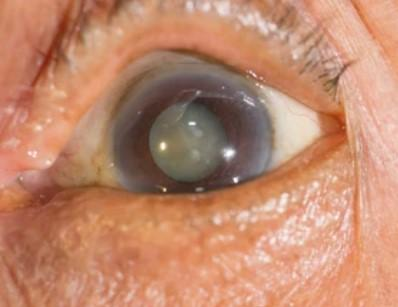eye: (107, 66, 274, 196)
